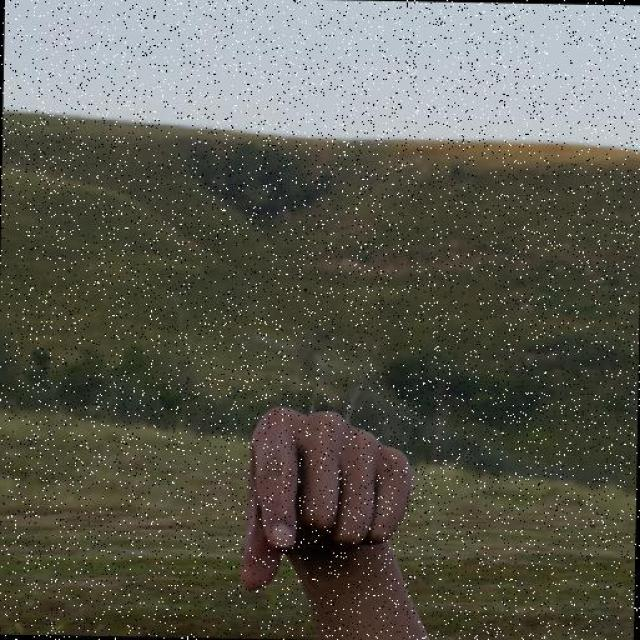Q: (232, 404, 417, 597)
